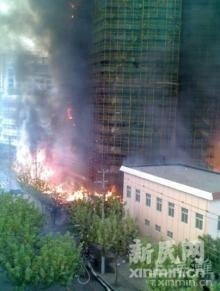fire: (16, 148, 124, 204)
